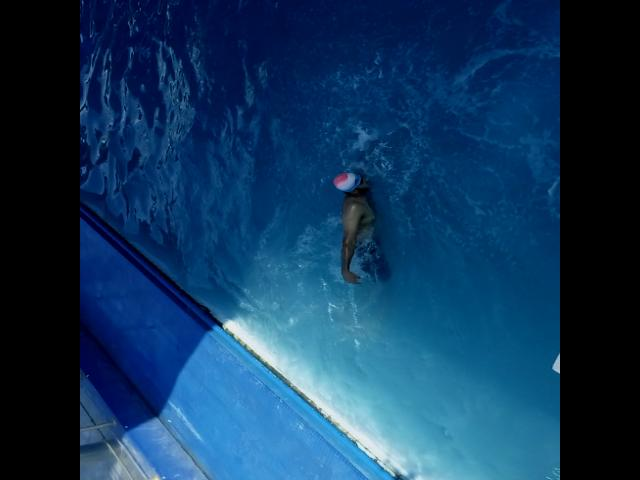swimming: (333, 164, 395, 284)
